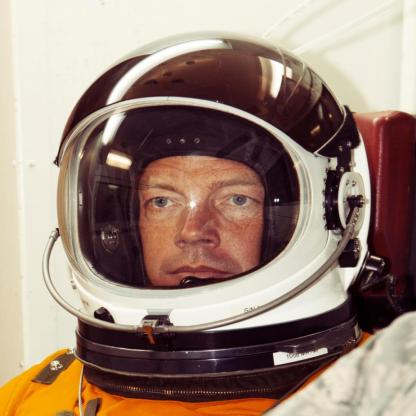Helmet: (56, 19, 368, 398)
